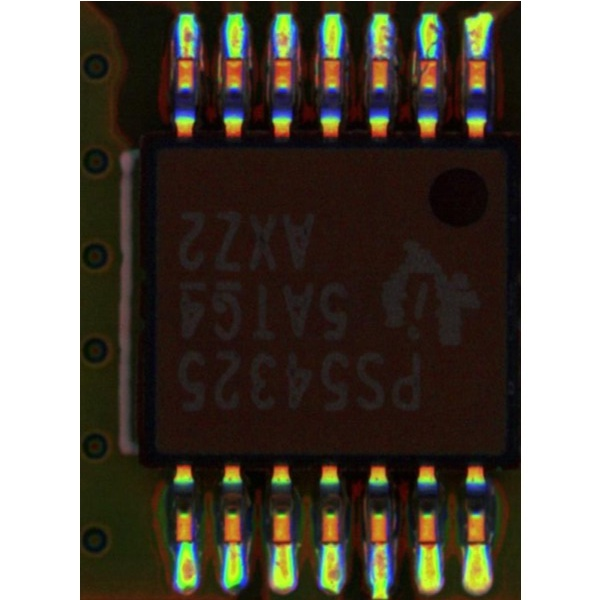Bad_podu: (471, 524, 482, 563), (421, 530, 434, 562), (277, 528, 288, 559), (230, 524, 238, 560), (182, 40, 191, 68)
